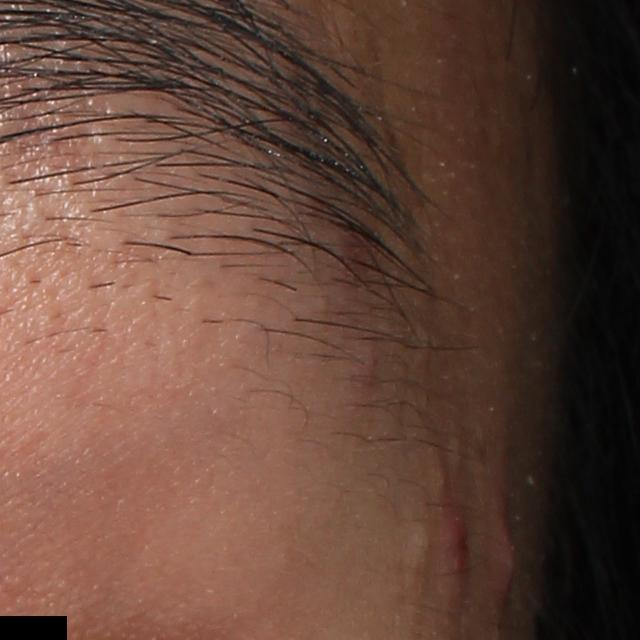papule: (489, 485, 524, 610), (438, 510, 469, 579)
